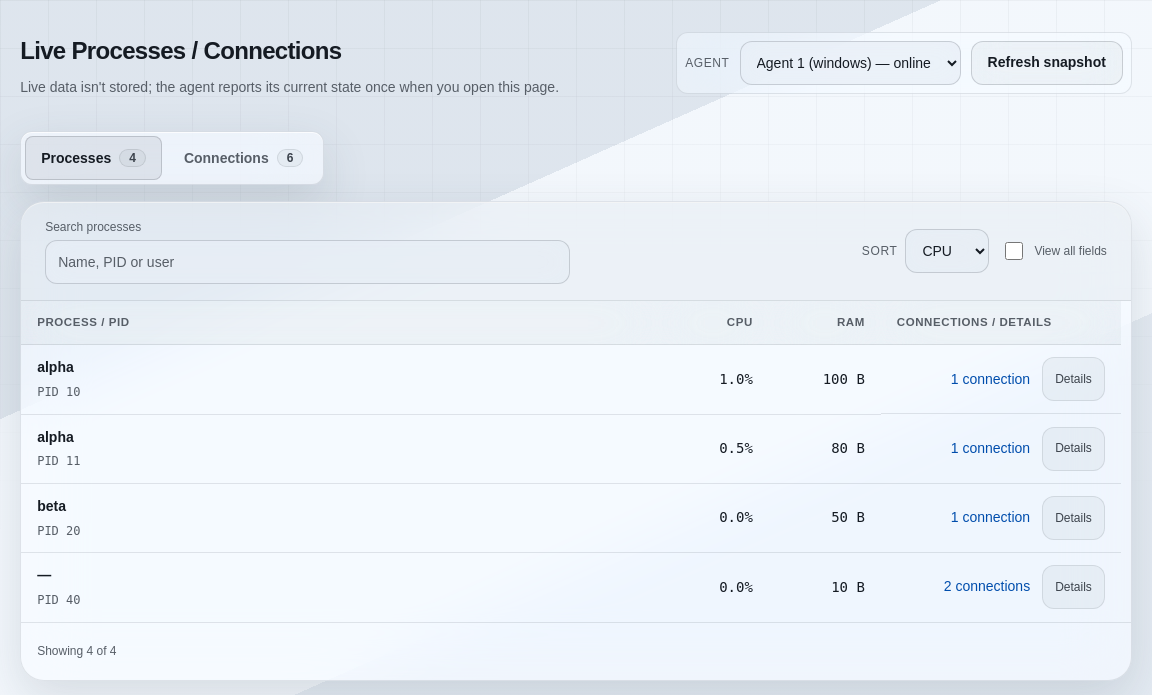
Test case: Processes network-connection filtering › builds TCP and ICMP quick-add routes and hides rows without a remote IP
The image size is (1152, 695).
What coordinates should you click on to do the following:
click the tab "Connections 6"
I would click on:
 (244, 158)
Its box is [168,136,319,180].
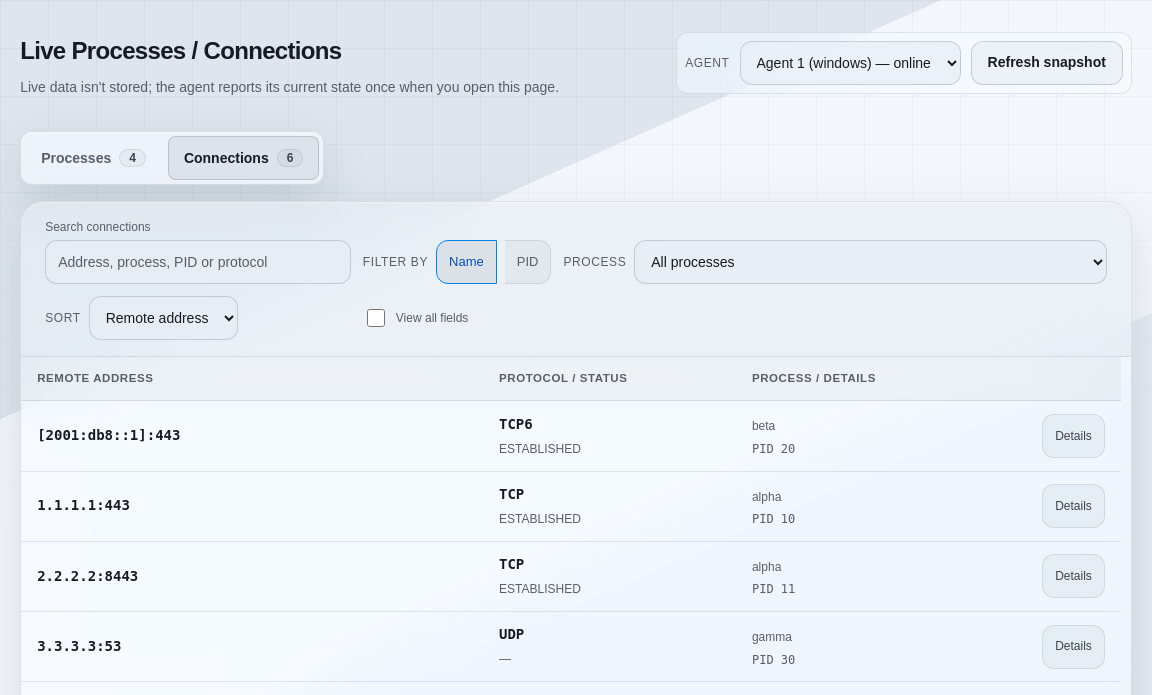
What coordinates should you click on to do the following:
click the checkbox labelled "View all fields"
I would click on:
 (376, 318)
Its box is [367,310,385,328].
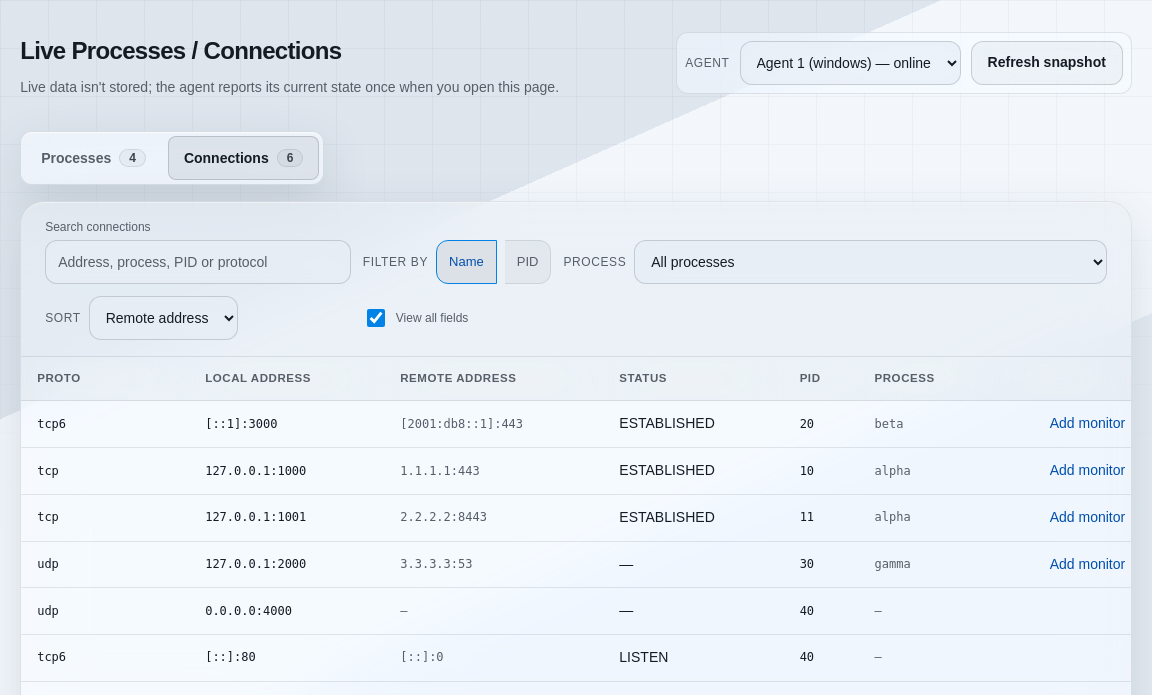
Expected: the number of "RouterLink" components is 4, [1050,416,1125,432]; [1050,462,1125,478]; [1050,509,1125,525]; [1050,556,1125,572]
